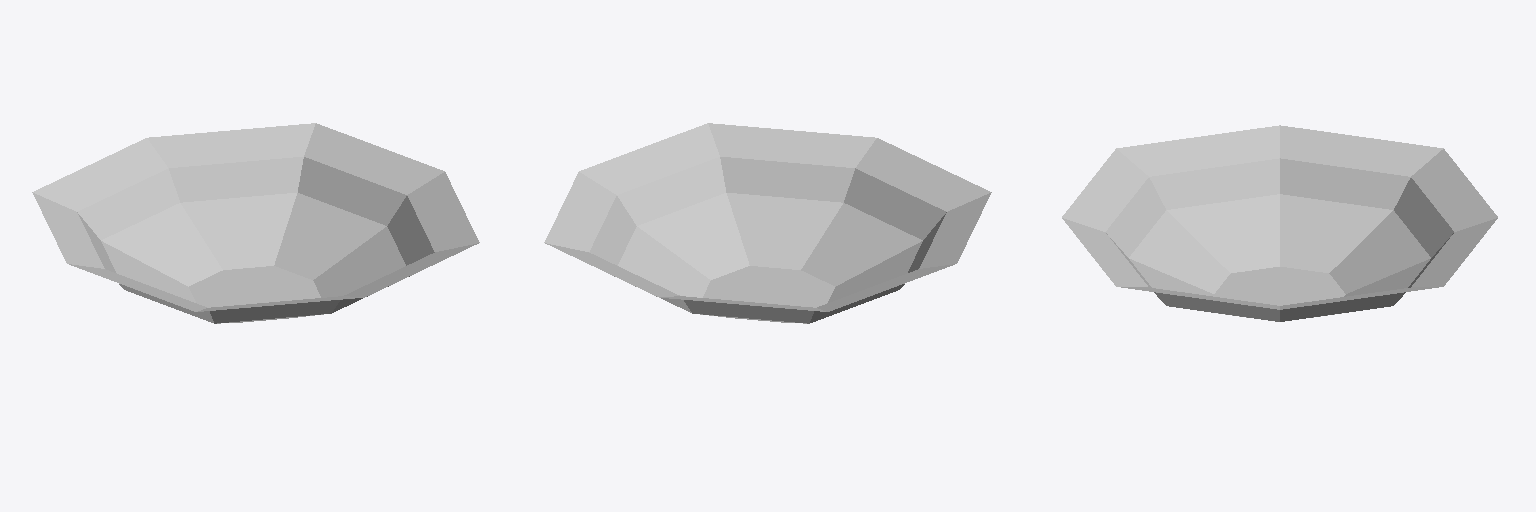
File: ground.obj
3 views of the same model, side by side, from view 1: azimuth 30°, elevation 25°; view 2: azimuth 150°, elevation 25°; view 3: azimuth 270°, elevation 25° (orthographic).
Parts seen in each view (by area): view 1: Ground_Plane; view 2: Ground_Plane; view 3: Ground_Plane.
Boxes of the visible parts, x1=… form: Ground_Plane: x1=32, y1=123, x2=479, y2=323; Ground_Plane: x1=544, y1=123, x2=991, y2=323; Ground_Plane: x1=1062, y1=125, x2=1497, y2=321.
Bounding box in the file's own units: 17.29 × 3.35 × 17.29.